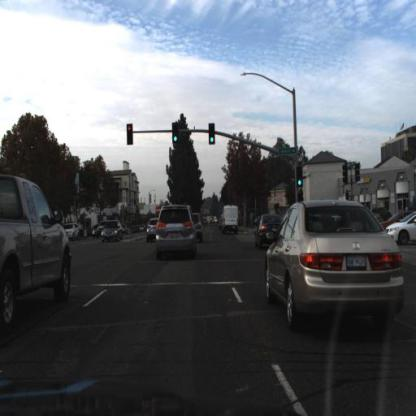car: (261, 200, 409, 330), (1, 180, 74, 326), (153, 201, 199, 259), (255, 209, 284, 259), (219, 200, 243, 242), (385, 211, 415, 243), (191, 210, 206, 255), (221, 204, 242, 235), (101, 220, 124, 245), (145, 212, 159, 248), (146, 214, 161, 245), (133, 227, 141, 237), (142, 226, 147, 236)
trafficLight: (297, 165, 306, 189), (172, 123, 180, 146), (209, 124, 217, 144), (127, 126, 133, 146)
trafficLight-Green: (295, 163, 306, 192)
